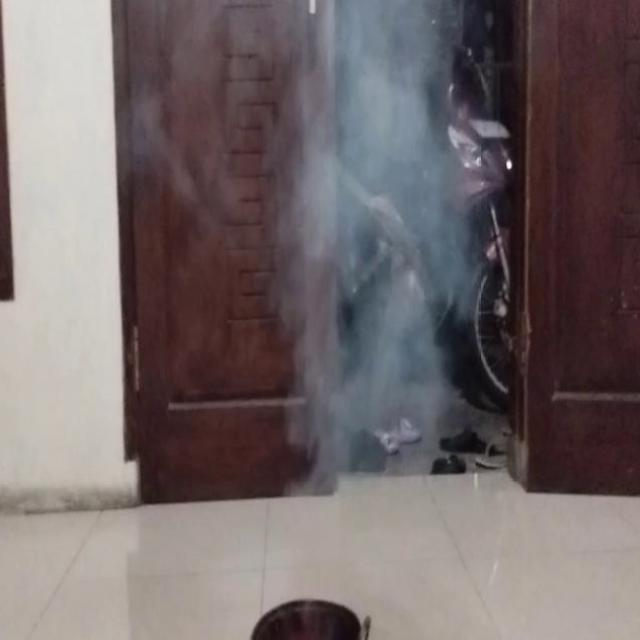fire: (282, 0, 460, 470)
